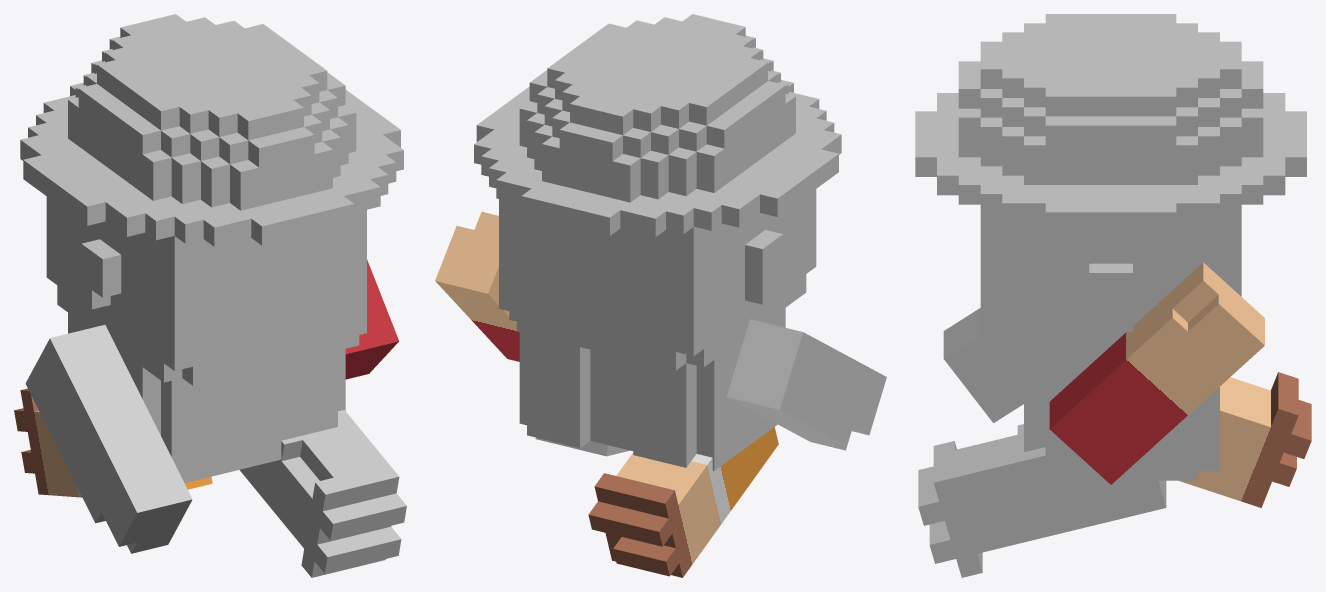
Rendered from LuffyFirstJump.dae.
The picture shows the model from 3 angles, left to right: view 1: azimuth 30°, elevation 25°; view 2: azimuth 150°, elevation 25°; view 3: azimuth 270°, elevation 25°; orthographic projection. The views are drawn at different scales.
Parts seen in each view (by area): view 1: Hat-local, Head-local, LeftArm-local, Torso-local, RightLeg-local, LeftLeg-local, RightARM-local; view 2: Hat-local, Head-local, Torso-local, LeftLeg-local, LeftArm-local, RightARM-local; view 3: Hat-local, Head-local, RightARM-local, RightLeg-local, LeftLeg-local, Torso-local, LeftArm-local.
Part boxes in pixels (bbox=[...]): Hat-local: bbox=[20, 14, 403, 246]; Head-local: bbox=[46, 196, 366, 385]; LeftArm-local: bbox=[25, 325, 192, 553]; Torso-local: bbox=[68, 313, 345, 482]; RightLeg-local: bbox=[239, 410, 406, 577]; LeftLeg-local: bbox=[14, 388, 212, 497]; RightARM-local: bbox=[345, 259, 398, 379]; Hat-local: bbox=[474, 14, 841, 237]; Head-local: bbox=[499, 189, 816, 370]; Torso-local: bbox=[519, 308, 785, 470]; LeftLeg-local: bbox=[588, 427, 778, 577]; LeftArm-local: bbox=[727, 319, 886, 450]; RightARM-local: bbox=[435, 212, 519, 361]; Hat-local: bbox=[915, 14, 1306, 231]; Head-local: bbox=[980, 213, 1241, 362]; RightARM-local: bbox=[1049, 262, 1264, 484]; RightLeg-local: bbox=[918, 424, 1166, 577]; LeftLeg-local: bbox=[1179, 372, 1311, 507]; Torso-local: bbox=[1024, 362, 1219, 480]; LeftArm-local: bbox=[943, 308, 1023, 423].
Bounding box in the file's own units: 17 × 23.97 × 18.22.
